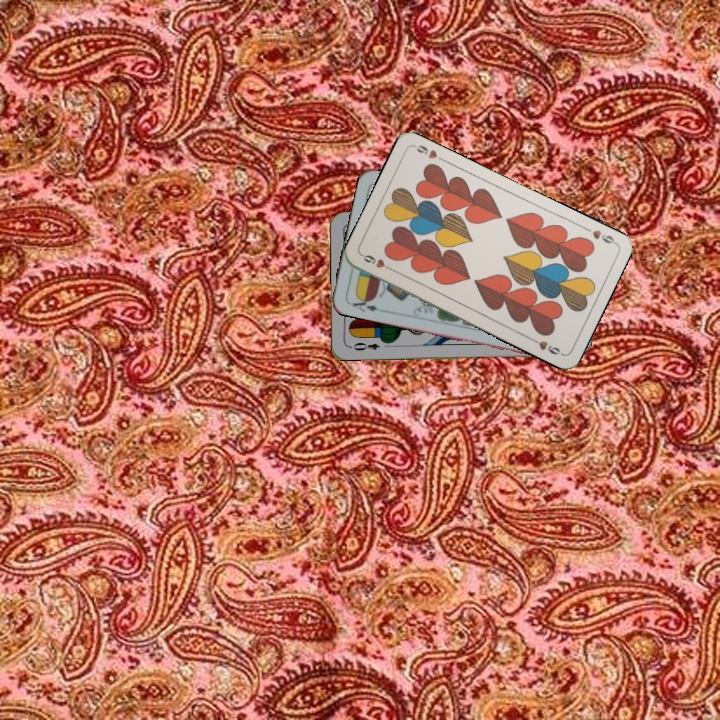EA: (345, 292, 385, 314)
EO: (349, 338, 382, 353)
H9: (358, 250, 396, 274), (580, 223, 618, 247)
